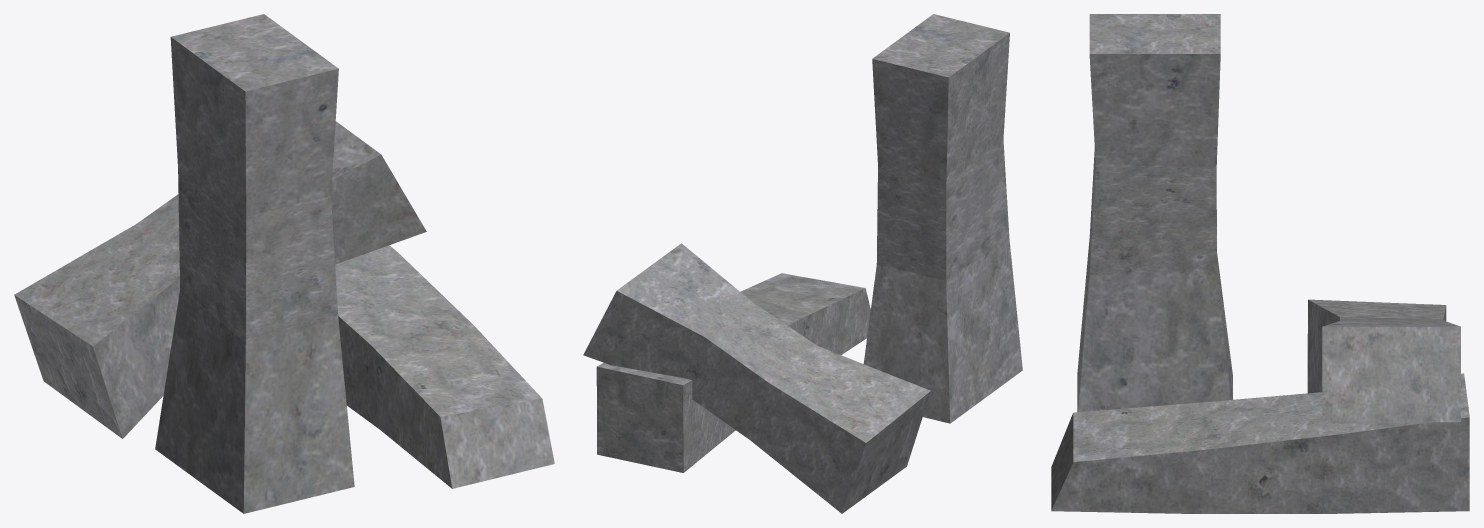
File: ara-henge_03.fbx
3 renders of one model, left to right at view 1: azimuth 30°, elevation 25°; view 2: azimuth 150°, elevation 25°; view 3: azimuth 270°, elevation 25°, orthographic. The views are drawn at different scales.
Visible parts, largest first — view 1: ara-henge_03; view 2: ara-henge_03; view 3: ara-henge_03.
Part boxes in pixels (x1,y1,x2,y2): ara-henge_03: (14, 14, 554, 513); ara-henge_03: (583, 14, 1022, 513); ara-henge_03: (1051, 14, 1469, 513).
Size of the model in its own units: 264 by 324 by 319.
